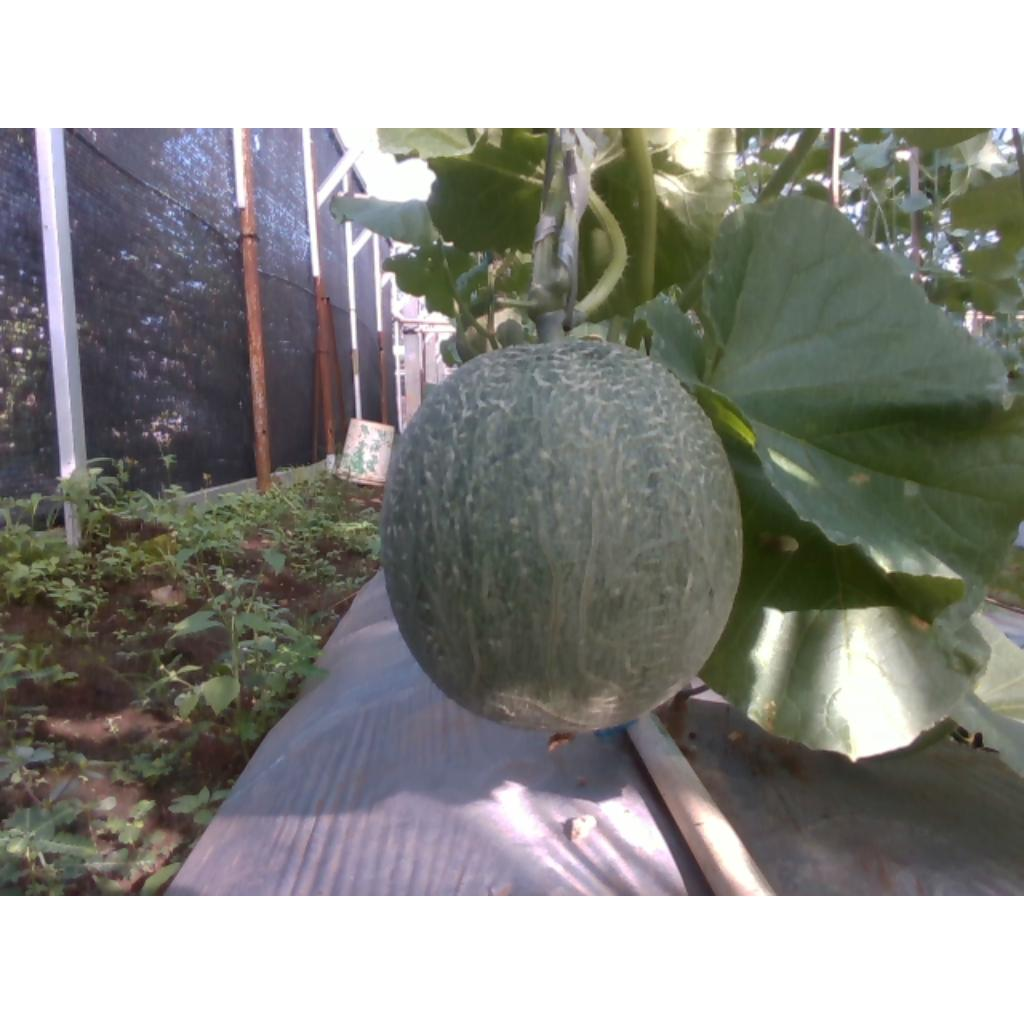melon: (381, 341, 744, 732)
